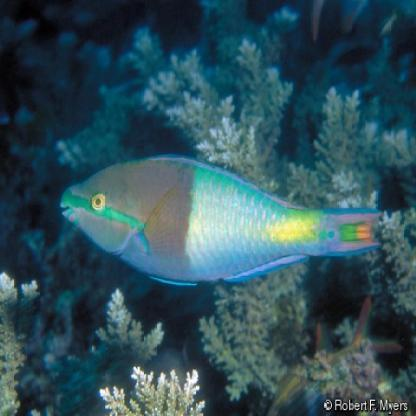Bio: (56, 148, 384, 286)
